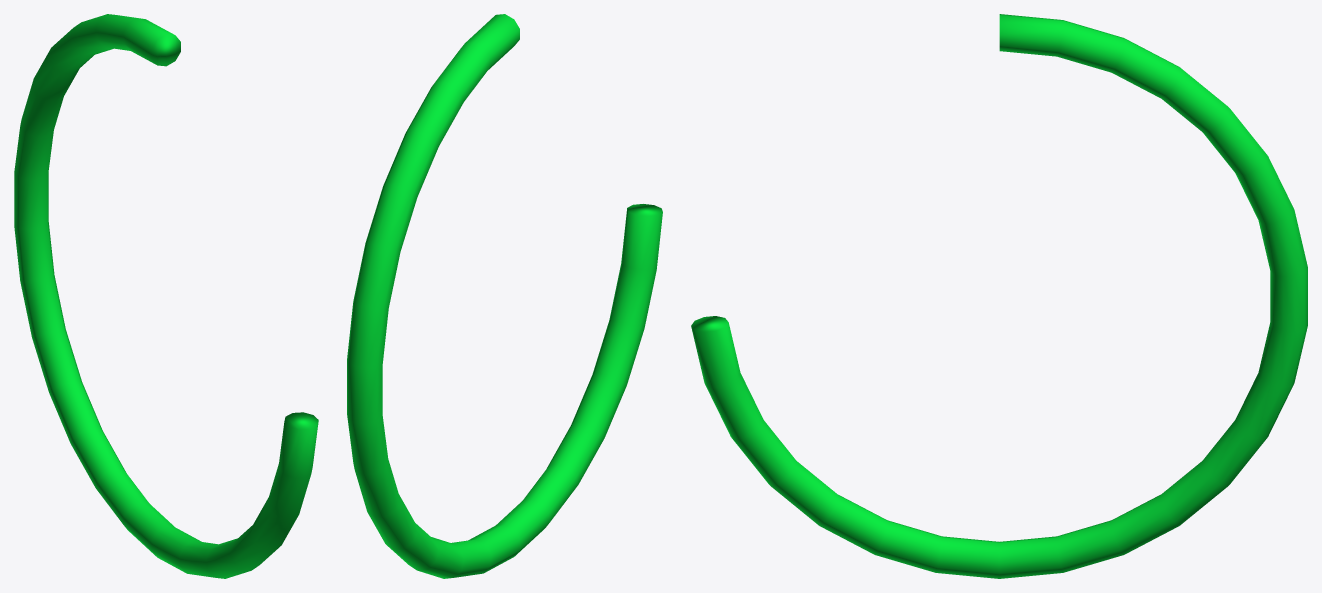
File: Pipe_Ring_270.fbx
3 views of the same model, side by side, from view 1: azimuth 30°, elevation 25°; view 2: azimuth 150°, elevation 25°; view 3: azimuth 270°, elevation 25° (orthographic). The views are drawn at different scales.
Visible parts, largest first — view 1: Pipe_Ring_270; view 2: Pipe_Ring_270; view 3: Pipe_Ring_270.
Boxes of the visible parts, x1,y1,x2,y2 form: Pipe_Ring_270: (14,14,318,578); Pipe_Ring_270: (347,14,662,578); Pipe_Ring_270: (691,14,1307,578).
Size of the model in its own units: 0.2254 by 3.88 by 3.86.
